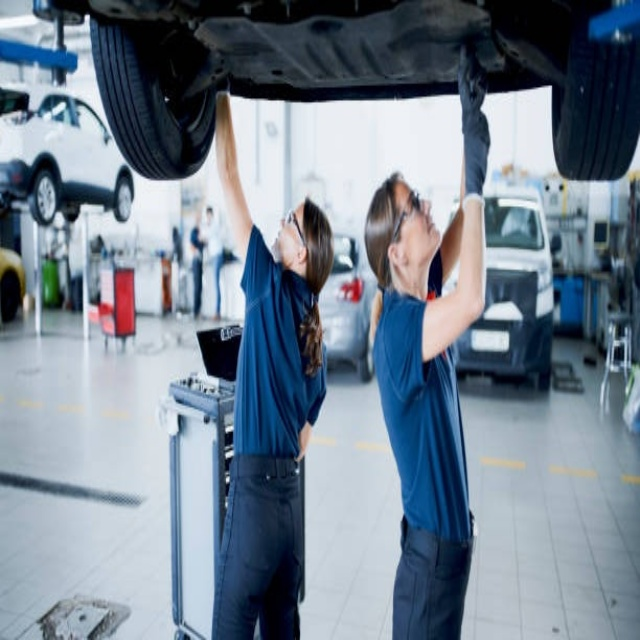Gafas: (391, 190, 422, 245), (283, 210, 307, 249)
Guantes: (459, 45, 491, 196)
Sin_mascara: (422, 201, 440, 244)
